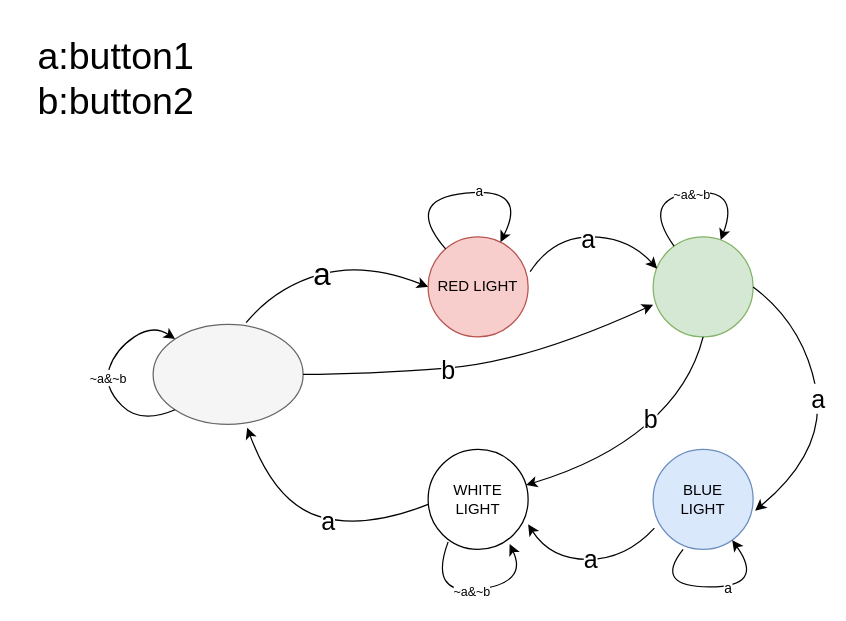
Image size: 846x621. Some labels were removed from this diagram. Each missing label, with the centre of its shape:
GREEN LIGHT: (702,286)
OFF: (227,373)
